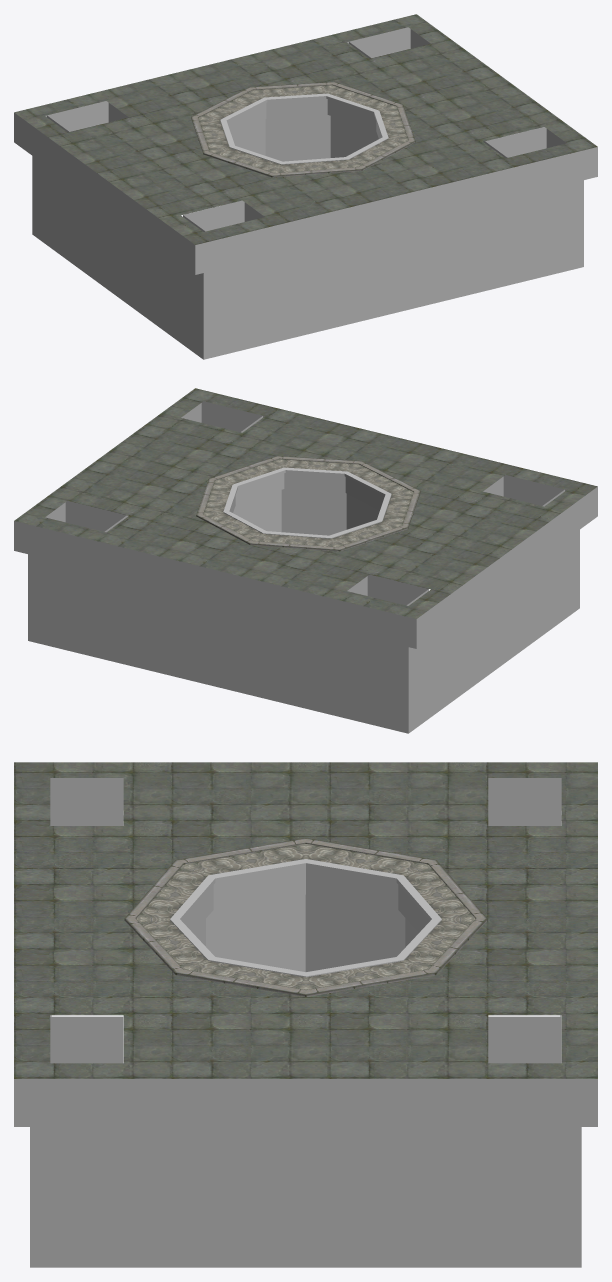
Rendered from environment_Building_shitai_008_a.FBX.
3 renders of one model, top to bottom at view 1: azimuth 30°, elevation 25°; view 2: azimuth 150°, elevation 25°; view 3: azimuth 270°, elevation 25°, orthographic. The views are drawn at different scales.
Visible parts, largest first — view 1: environment_Building_shitai_008_a03, environment_Building_shitai_008_a01, environment_Building_shitai_008_a02, environment_Building_shitai_008_a04; view 2: environment_Building_shitai_008_a03, environment_Building_shitai_008_a01, environment_Building_shitai_008_a02, environment_Building_shitai_008_a04; view 3: environment_Building_shitai_008_a01, environment_Building_shitai_008_a03, environment_Building_shitai_008_a02, environment_Building_shitai_008_a04.
Part boxes in pixels (box(x1,y1,x2,y2)): environment_Building_shitai_008_a03: box(32, 27, 583, 359); environment_Building_shitai_008_a01: box(14, 14, 597, 244); environment_Building_shitai_008_a02: box(14, 42, 597, 274); environment_Building_shitai_008_a04: box(191, 81, 415, 177); environment_Building_shitai_008_a03: box(28, 401, 579, 733); environment_Building_shitai_008_a01: box(14, 388, 597, 618); environment_Building_shitai_008_a02: box(14, 416, 597, 648); environment_Building_shitai_008_a04: box(196, 456, 420, 551); environment_Building_shitai_008_a01: box(14, 762, 597, 1078); environment_Building_shitai_008_a03: box(30, 779, 581, 1267); environment_Building_shitai_008_a02: box(14, 778, 597, 1126); environment_Building_shitai_008_a04: box(124, 838, 487, 996).
Size of the model in its own units: 3619 by 1056 by 2823.
